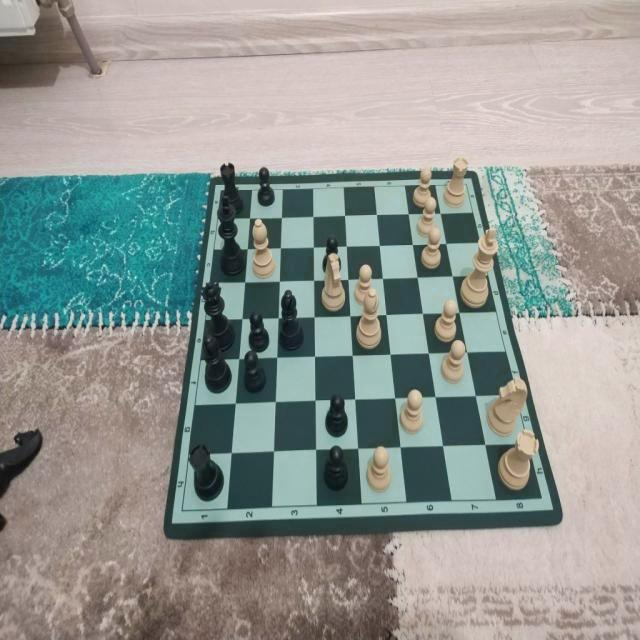chess-table-corners: (536, 492, 548, 505), (461, 178, 471, 192), (177, 505, 187, 516), (218, 186, 225, 195)
